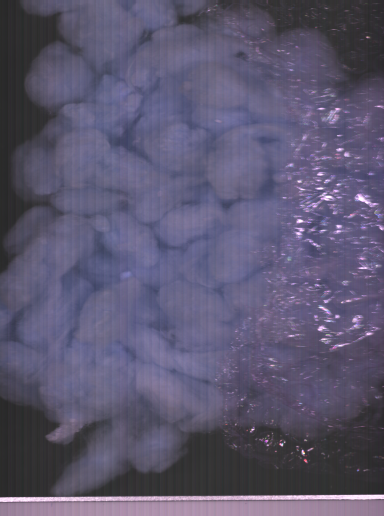Cotton: (166, 64, 234, 151), (44, 359, 144, 404), (114, 159, 169, 222), (178, 211, 221, 283), (99, 70, 144, 128), (79, 11, 131, 51), (169, 293, 220, 330), (158, 380, 204, 418), (32, 227, 74, 264), (37, 65, 78, 97), (228, 217, 252, 271), (214, 158, 252, 186), (106, 226, 153, 248), (94, 296, 129, 324), (69, 143, 104, 163), (24, 156, 41, 191)
